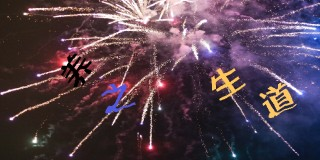之: (101, 84, 136, 112)
养: (60, 53, 93, 86)
生: (209, 66, 248, 101)
道: (259, 81, 298, 119)
